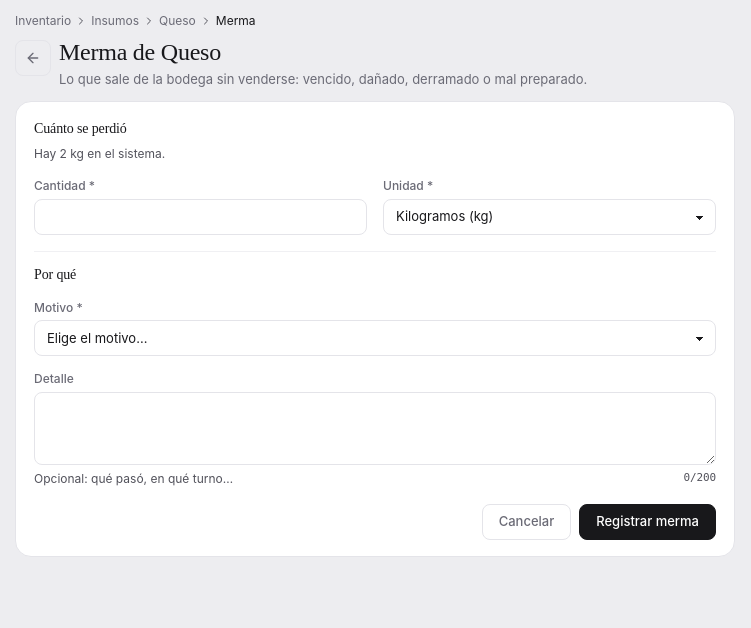
Scenario: Merma › avisa antes de enviar si la merma es más de lo que hay
In the field labelled "Cantidad *": (200,217) x1=34 y1=199 x2=367 y2=235, type "3"
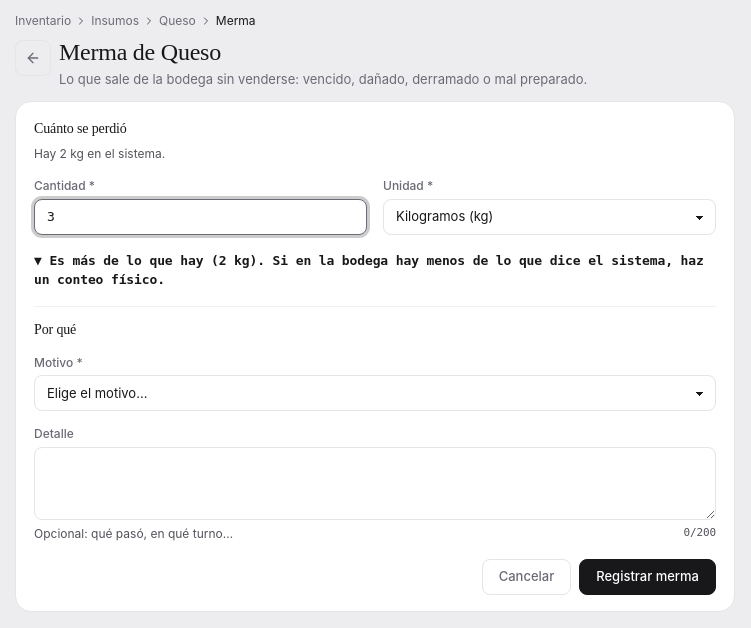
Expected: the text "Es más de lo que hay (2 kg)" is shown, x1=34 y1=253 x2=704 y2=287
